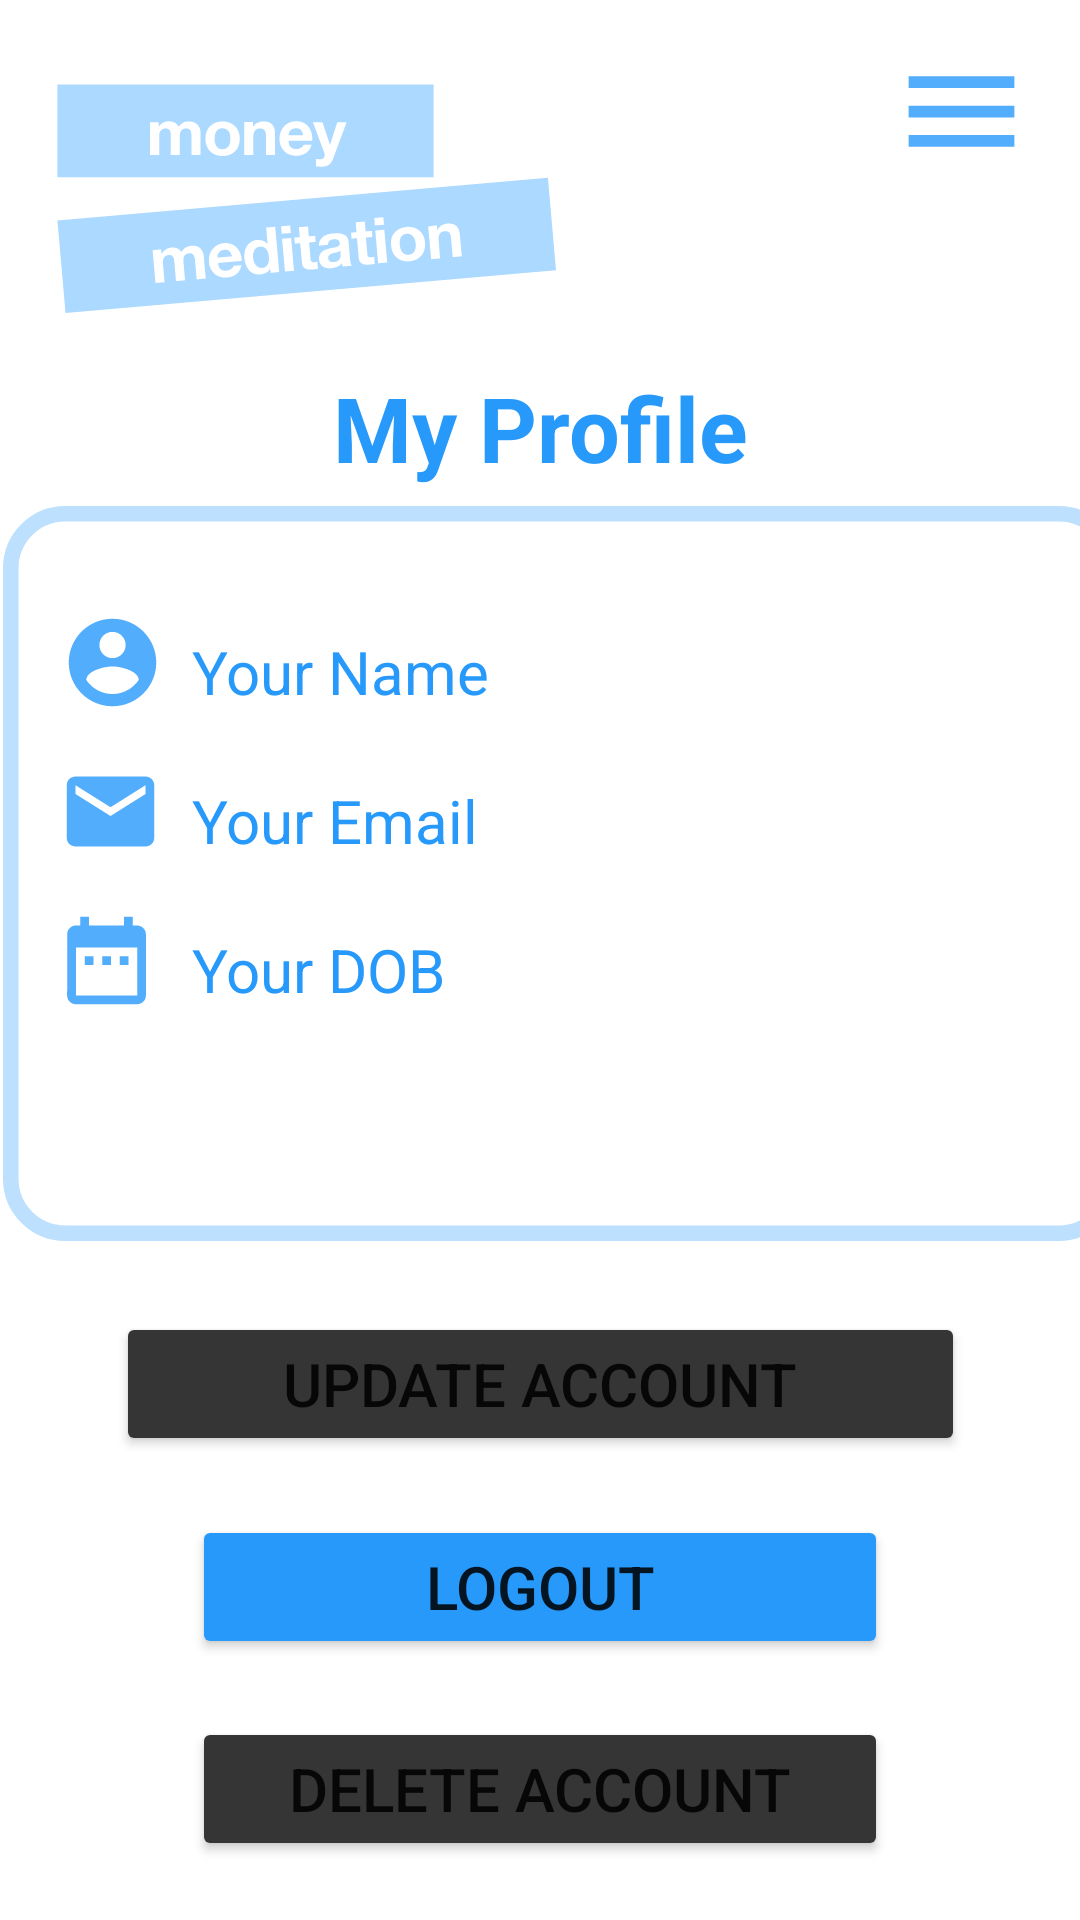

Point at icon controls on the screen. Image size 1080*1920, points as [x,y].
account: [112,662]
